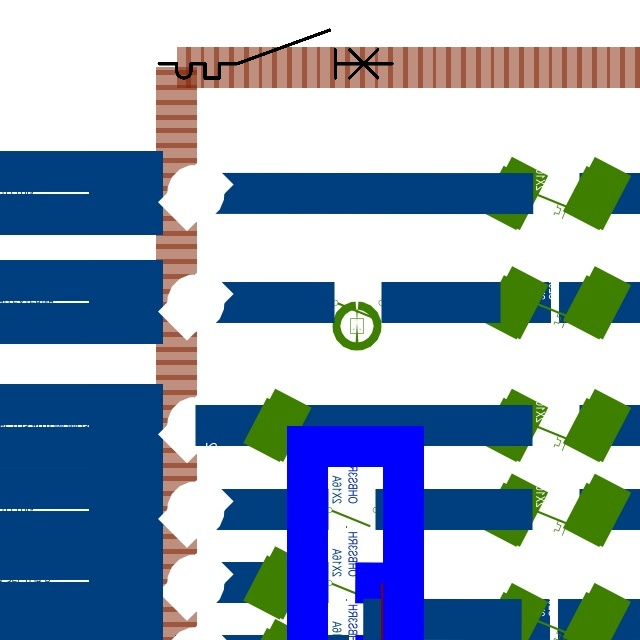interruptor_termomagnetico: (153, 24, 398, 84)
